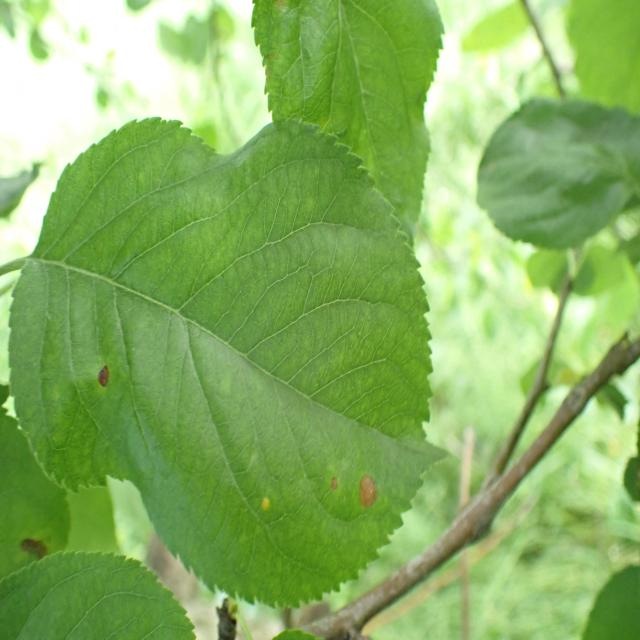Black Rot: (81, 316, 130, 436), (349, 452, 379, 534)
